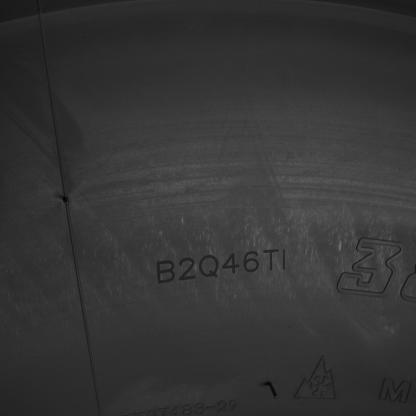ocr: (156, 245, 288, 286)
